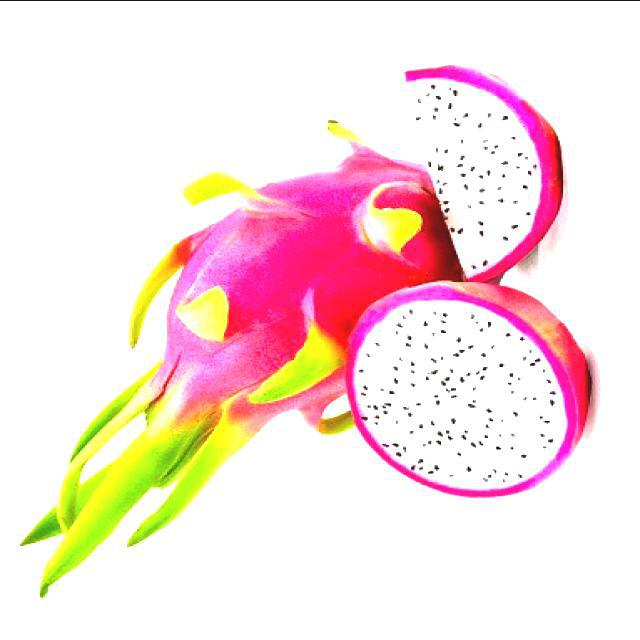trang: (22, 154, 496, 596), (338, 275, 600, 503), (398, 64, 572, 284)
